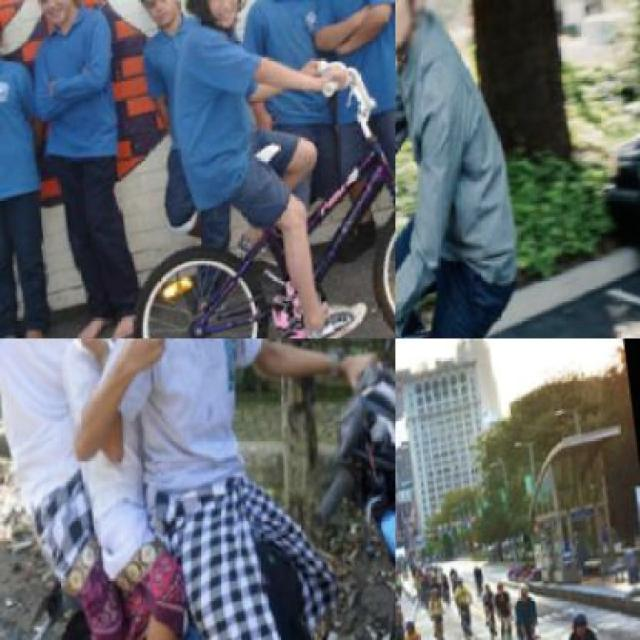With Helmet: (163, 0, 277, 55), (395, 0, 469, 72), (570, 606, 608, 639)
Without Helmet: (521, 585, 544, 613)
